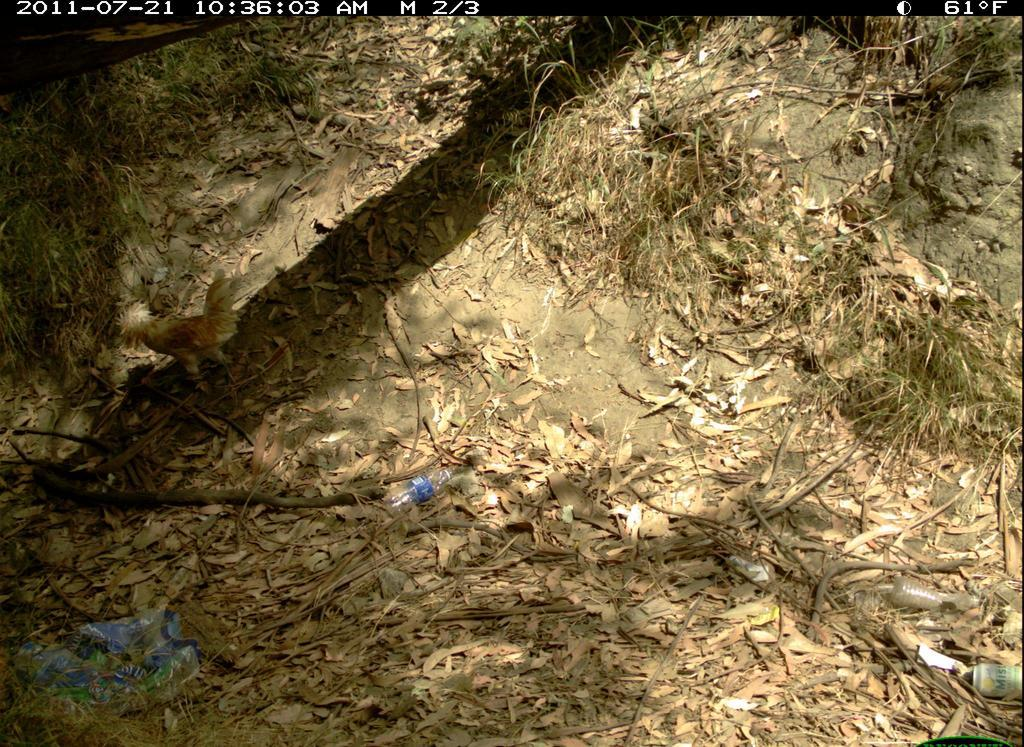bird: (113, 272, 245, 404)
